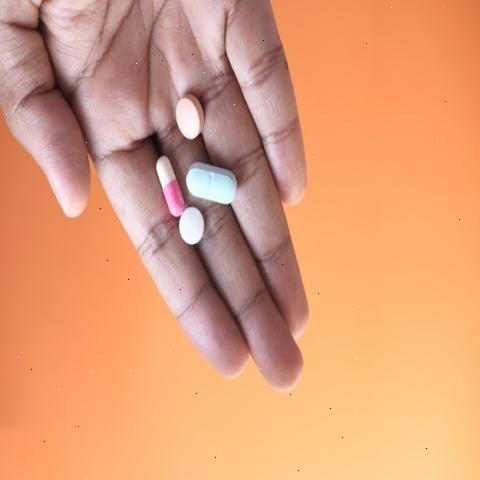Pill: (184, 157, 243, 204), (172, 94, 214, 142), (180, 205, 212, 249)
